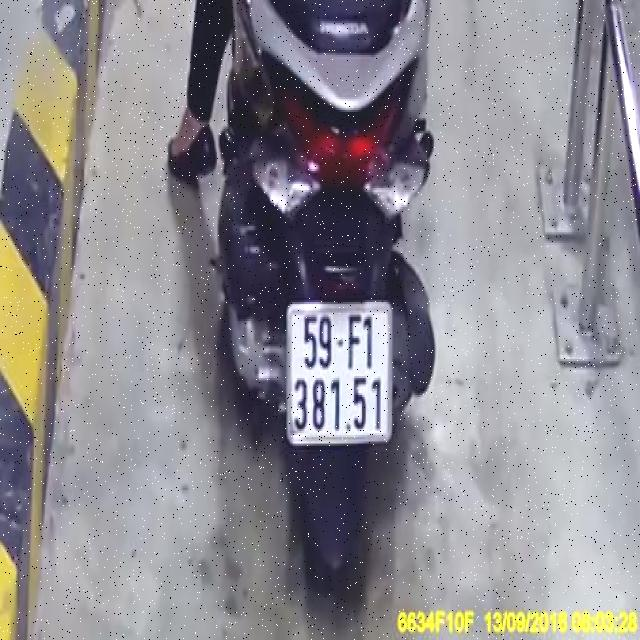1: (370, 373, 387, 437), (328, 374, 343, 432), (362, 313, 375, 371)
3: (289, 375, 309, 434)
5: (302, 309, 319, 376), (351, 371, 368, 434)
8: (310, 376, 327, 433)
9: (318, 310, 333, 370)
F: (346, 309, 365, 374)
